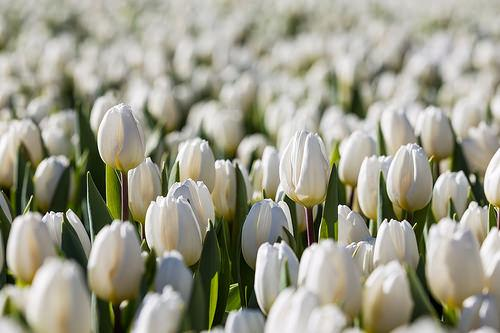tulip: (87, 220, 147, 299), (145, 191, 206, 266), (300, 240, 357, 315), (277, 129, 333, 204), (387, 140, 434, 212), (98, 104, 146, 170), (5, 217, 57, 276), (371, 219, 421, 274), (174, 137, 215, 196)
